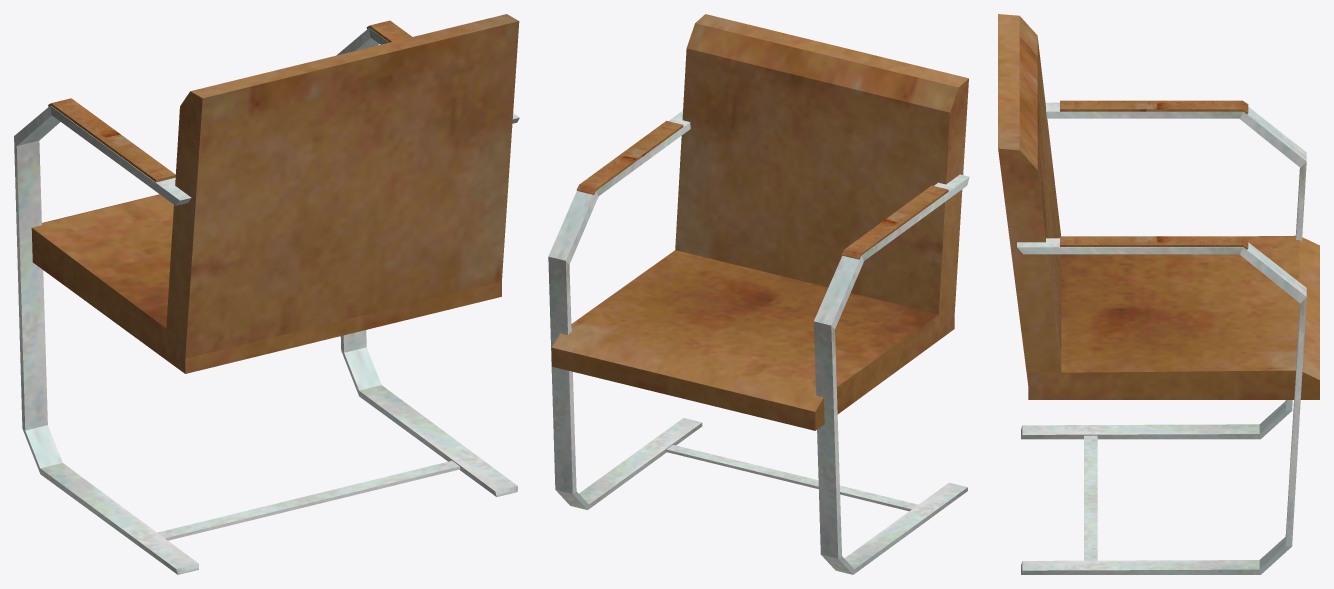
Rendered from conference_chair.fbx.
3 views of the same model, side by side, from view 1: azimuth 30°, elevation 25°; view 2: azimuth 150°, elevation 25°; view 3: azimuth 270°, elevation 25° (orthographic). The views are drawn at different scales.
Parts seen in each view (by area): view 1: conference_chair; view 2: conference_chair; view 3: conference_chair.
Part boxes in pixels (x1=…): conference_chair: x1=14, y1=14, x2=519, y2=574; conference_chair: x1=548, y1=14, x2=969, y2=574; conference_chair: x1=998, y1=14, x2=1319, y2=574.
Bounding box in the file's own units: 74.95 × 101 × 70.18.
